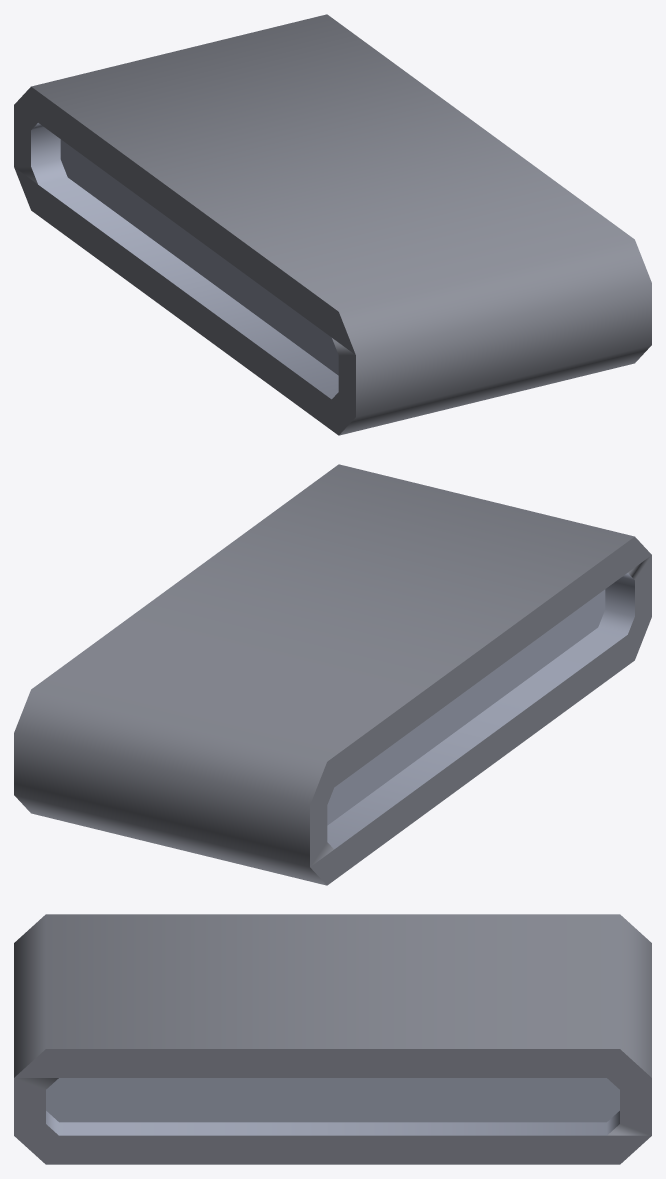
File: conveyor-long.fbx
3 views of the same model, one above another, from view 1: azimuth 30°, elevation 25°; view 2: azimuth 150°, elevation 25°; view 3: azimuth 270°, elevation 25° (orthographic). The views are drawn at different scales.
Visible parts, largest first — view 1: conveyor-long; view 2: conveyor-long; view 3: conveyor-long.
Part boxes in pixels (bbox=[...]): conveyor-long: bbox=[14, 14, 651, 435]; conveyor-long: bbox=[14, 464, 651, 885]; conveyor-long: bbox=[14, 914, 651, 1164].
Size of the model in its own units: 100 by 40 by 200.
